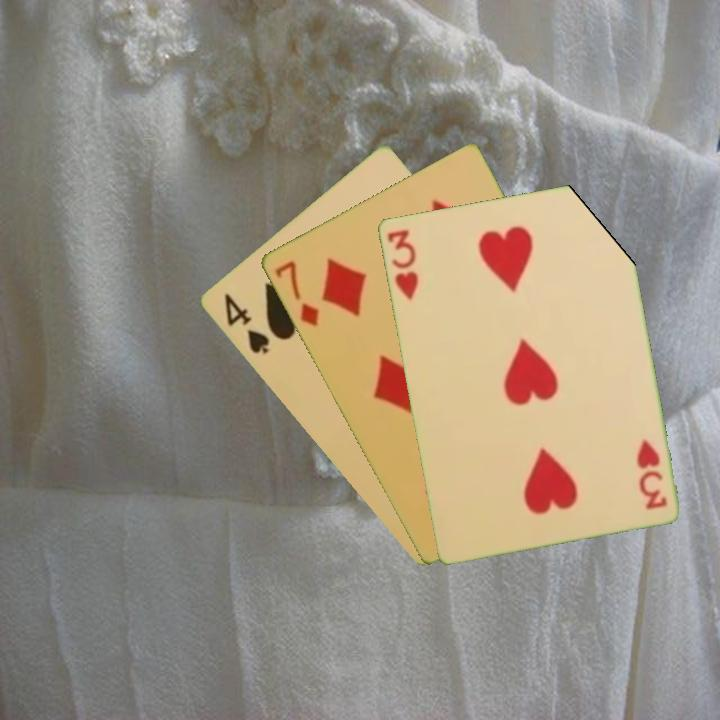3h: (383, 225, 421, 302), (632, 435, 670, 512)
4s: (220, 289, 272, 357)
7d: (271, 257, 322, 330)
